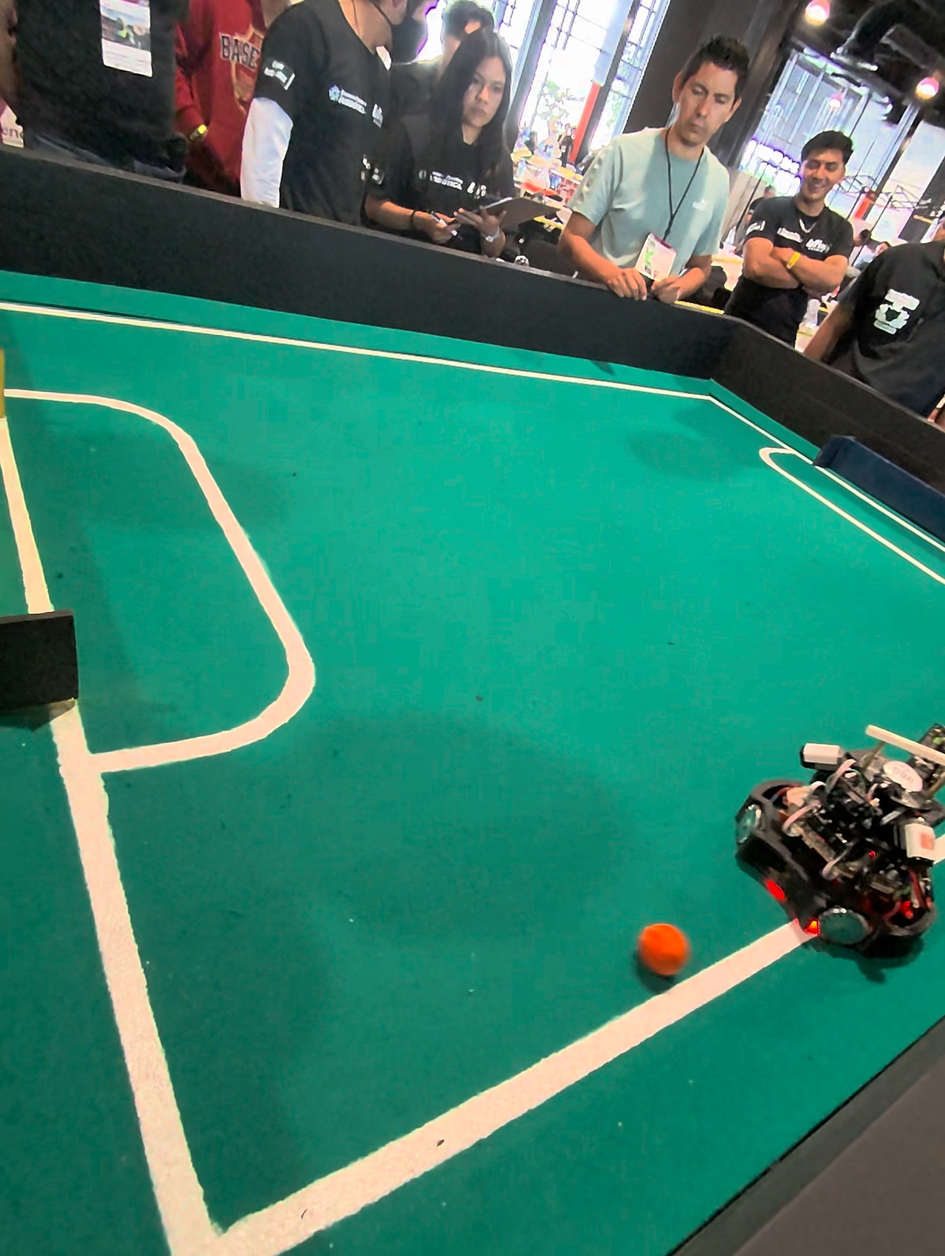Robot: (722, 712, 940, 977), (894, 696, 945, 877)
pelota: (637, 924, 693, 978)
